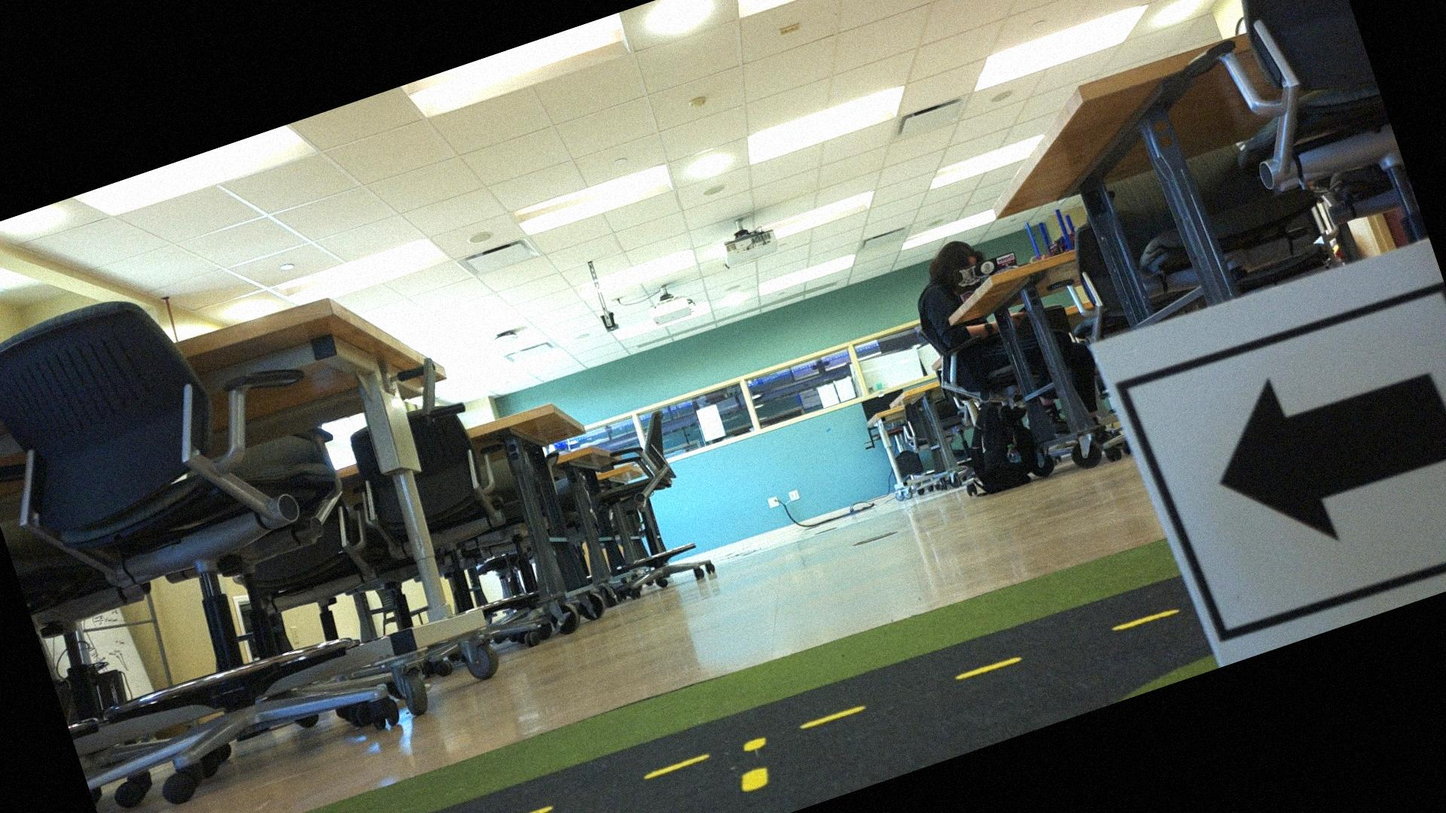turnright: (1130, 288, 1445, 644)
yellowline: (151, 580, 1179, 812), (725, 735, 782, 800)
